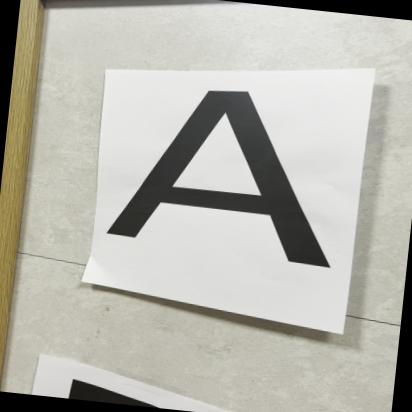seat: (103, 66, 350, 291)
